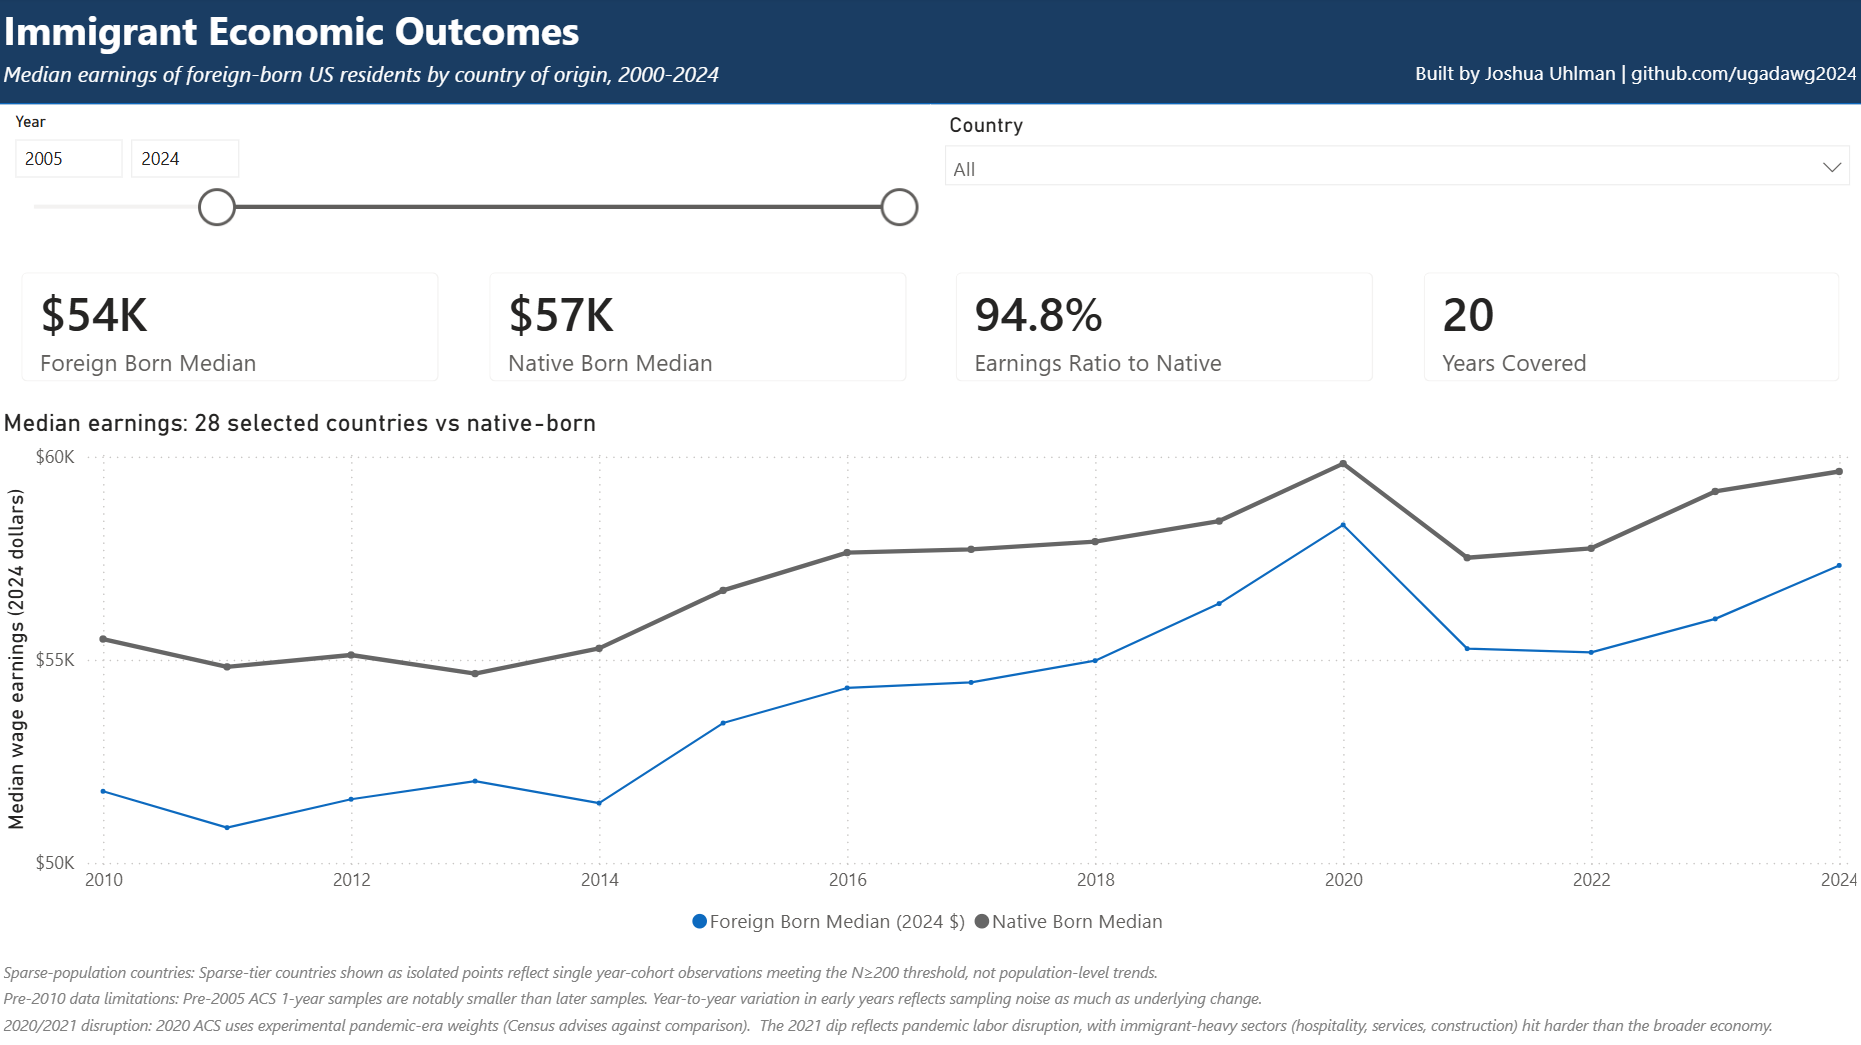

The dashboard page shown, as its layout file describes it:
{"tool":"powerbi","page":{"name":"Overview","canvas":[1280,720],"ordinal":0},"visuals":[{"type":"shape","box":[0,0,1280.4,75],"z":0},{"type":"textbox","box":[0,0,505.6,47.3],"z":1000},{"type":"textbox","box":[0,38,571.4,37],"z":2000},{"type":"textbox","box":[914.6,38,365.8,37],"z":3000},{"type":"slicer","fields":{"Values":["Date.Year"]},"box":[0,75,640.2,97.6],"z":4000},{"type":"slicer","title":"Country","fields":{"Values":["Countries.country_name"]},"box":[640.2,75,640.2,97.6],"z":5000},{"type":"cardVisual","fields":{"Data":["Medians.Foreign Born Median"]},"box":[0,172.6,320.6,110],"z":6000},{"type":"cardVisual","fields":{"Data":["Medians.Native Born Median"]},"box":[320.6,172.6,320.6,110],"z":7000},{"type":"cardVisual","fields":{"Data":["Medians.Earnings Ratio to Native"]},"box":[640.2,172.6,320.6,110],"z":8000},{"type":"cardVisual","fields":{"Data":["Date.Years Covered"]},"box":[960.8,172.6,319.6,110],"z":9000},{"type":"lineChart","fields":{"Category":["Date.Year"],"Y":["Medians.Foreign Born Median","Medians.Native Born Median"]},"box":[0,282.6,1280.4,347.3],"z":10000},{"type":"textbox","box":[0,629.9,1280.4,90.4],"z":11000}]}

Visuals, with their boxes in screenshot pixels (x1, y1, x2, y2), scaled from the page's 1280x720 canvas onto the 1861x1045 screenshot:
shape: <region>0, 0, 1860, 109</region>
textbox: <region>0, 0, 735, 69</region>
textbox: <region>0, 55, 831, 109</region>
textbox: <region>1330, 55, 1860, 109</region>
slicer - Date.Year: <region>0, 109, 931, 251</region>
"Country" slicer: <region>931, 109, 1860, 251</region>
cardVisual - Medians.Foreign Born Median: <region>0, 251, 466, 410</region>
cardVisual - Medians.Native Born Median: <region>466, 251, 932, 410</region>
cardVisual - Medians.Earnings Ratio to Native: <region>931, 251, 1397, 410</region>
cardVisual - Date.Years Covered: <region>1397, 251, 1860, 410</region>
lineChart - Date.Year x Medians.Foreign Born Median: <region>0, 410, 1860, 914</region>
textbox: <region>0, 914, 1860, 1044</region>
